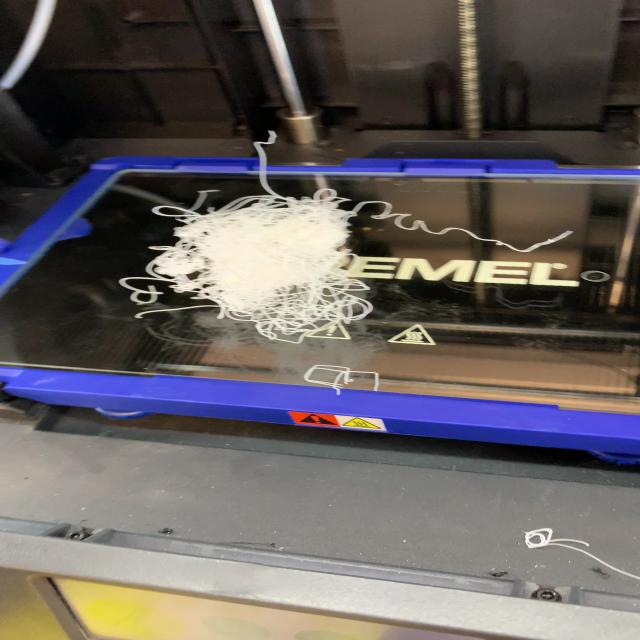spaghetti: (121, 186, 382, 343)
